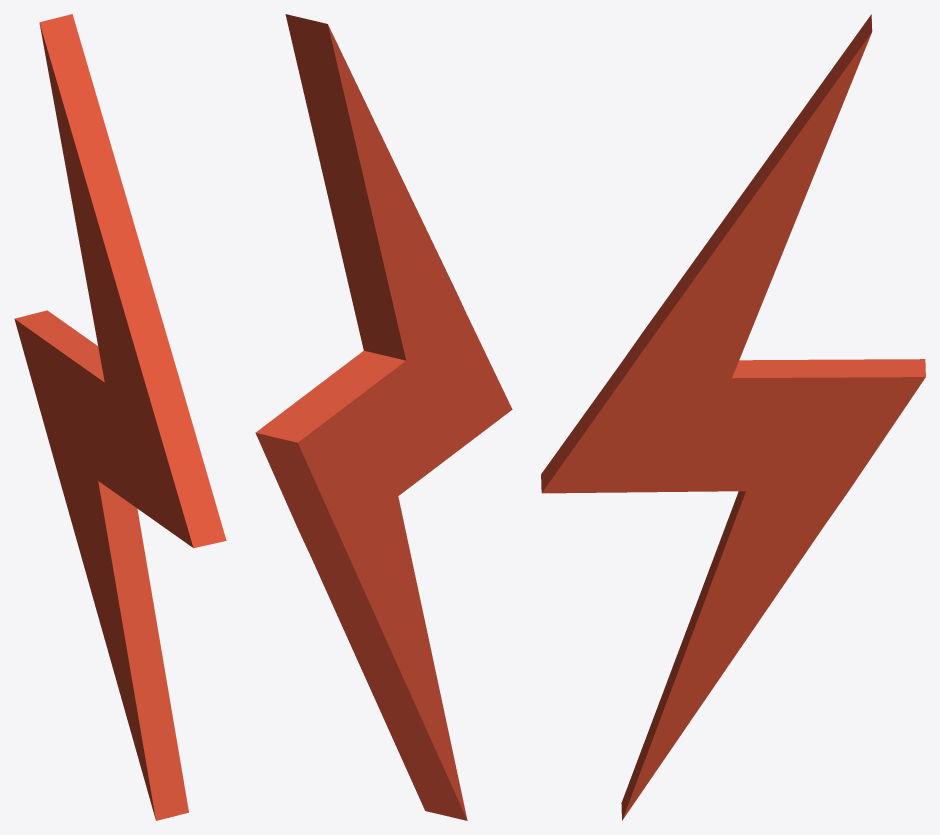
Rendered from lighting-test.glb.
The picture shows the model from 3 angles, left to right: view 1: azimuth 30°, elevation 25°; view 2: azimuth 150°, elevation 25°; view 3: azimuth 270°, elevation 25°; orthographic projection. The views are drawn at different scales.
Visible parts, largest first — view 1: Cube.025; view 2: Cube.025; view 3: Cube.025.
Boxes of the visible parts, bbox=[...] form: Cube.025: bbox=[14, 14, 226, 820]; Cube.025: bbox=[255, 14, 512, 820]; Cube.025: bbox=[541, 14, 925, 820].
Bounding box in the file's own units: 0.0443 × 0.803 × 0.3557.
